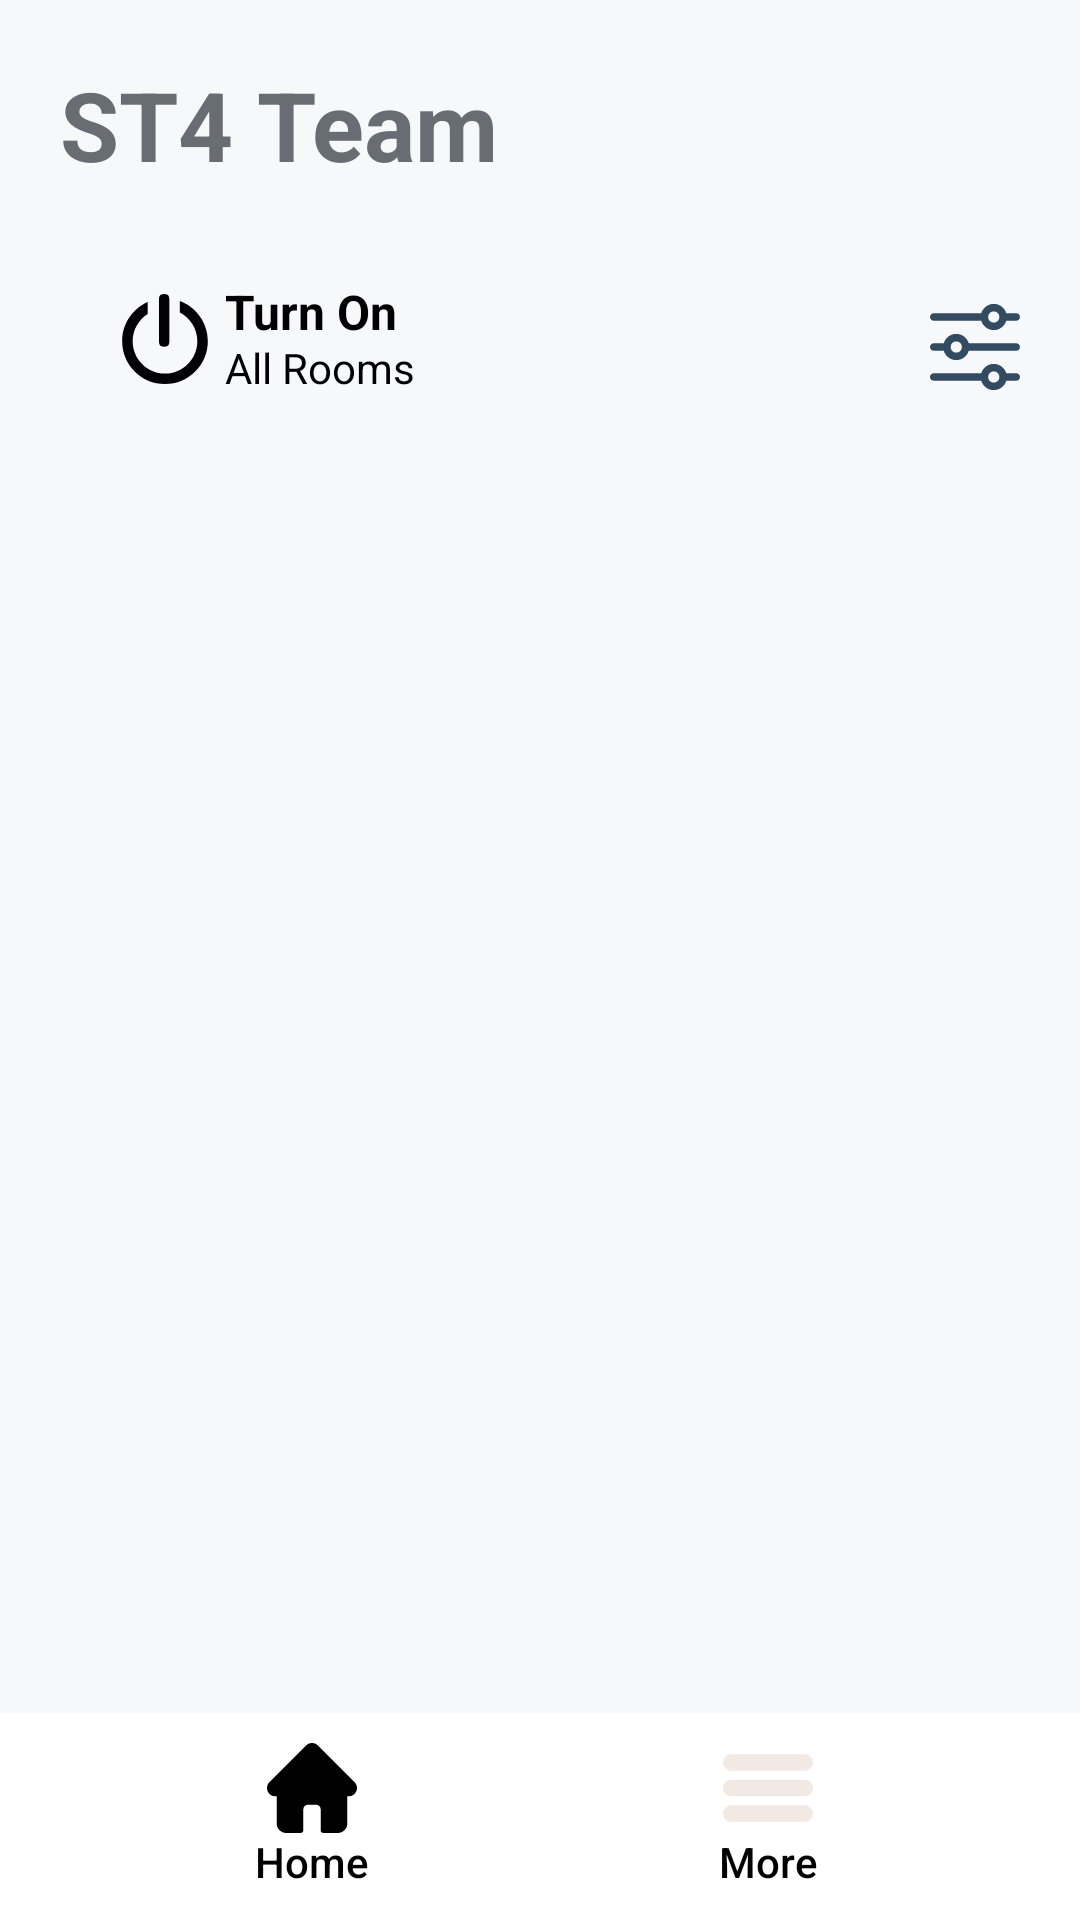

Icons on this 1080 x 1920 Android screen, each with its box as (x1, y1, x2, y2):
power: (122, 294, 208, 384)
settings: (930, 304, 1020, 390)
